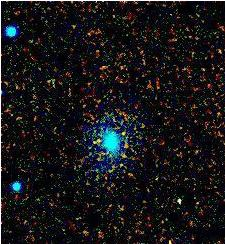star: (106, 118, 136, 148)
